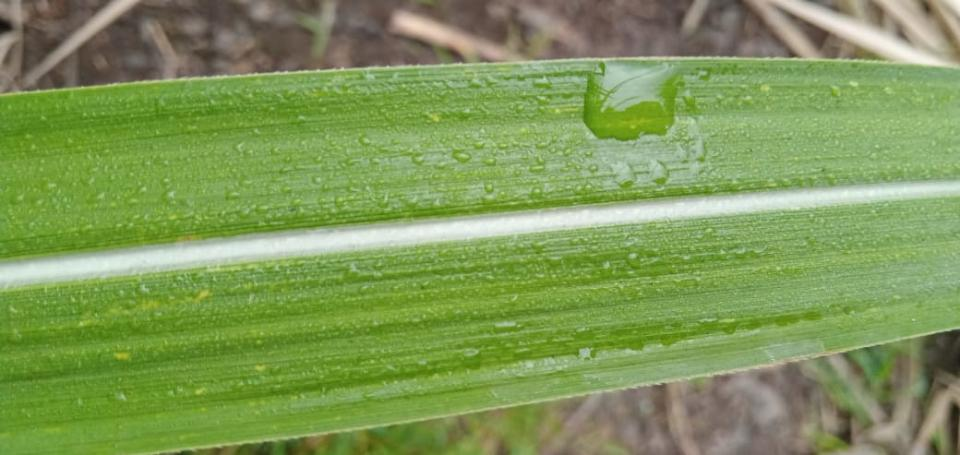Healthy: (0, 58, 959, 454)
